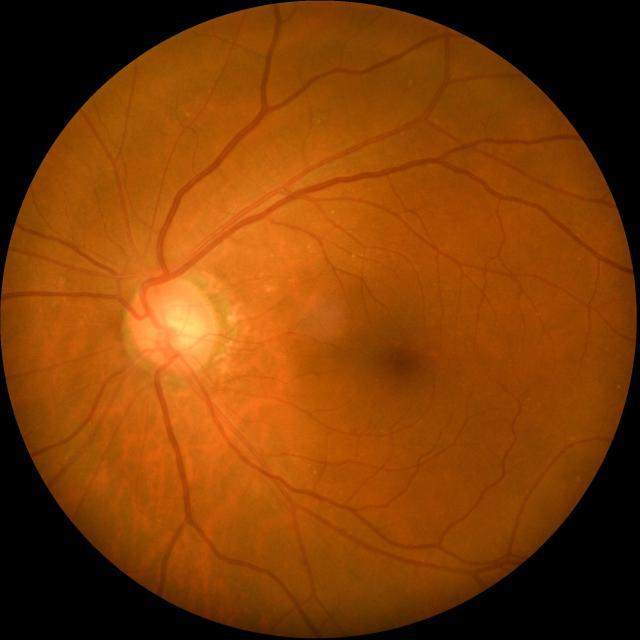OC: (151, 296, 203, 354)
OD: (125, 273, 216, 372)
